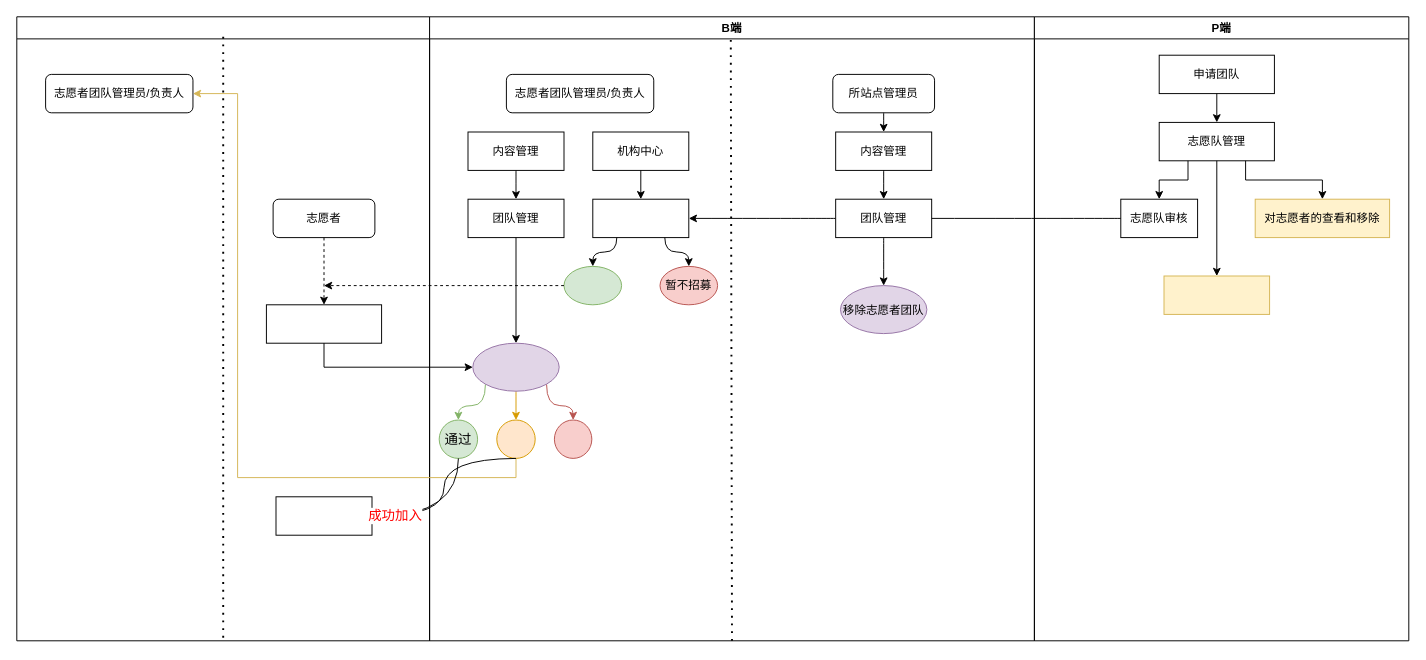
Some shapes in this 1426 by 660 pixel diagram are drawn without their labels. The shapes that lost their labels are listed below. From the top down, each one's box as (x1, y1, x2, y2) in pixels, then its label:
(592, 198, 689, 238): 设置招募状态
(563, 265, 622, 305): 招募中
(1163, 275, 1270, 314): 志愿队信息编辑
(16, 16, 430, 641): C端
(265, 304, 382, 343): 申请加入志愿者团队
(472, 342, 559, 391): 审核志愿者
(496, 419, 535, 458): 领队
(553, 419, 592, 458): 不通过
(275, 496, 372, 535): 志愿者团队
